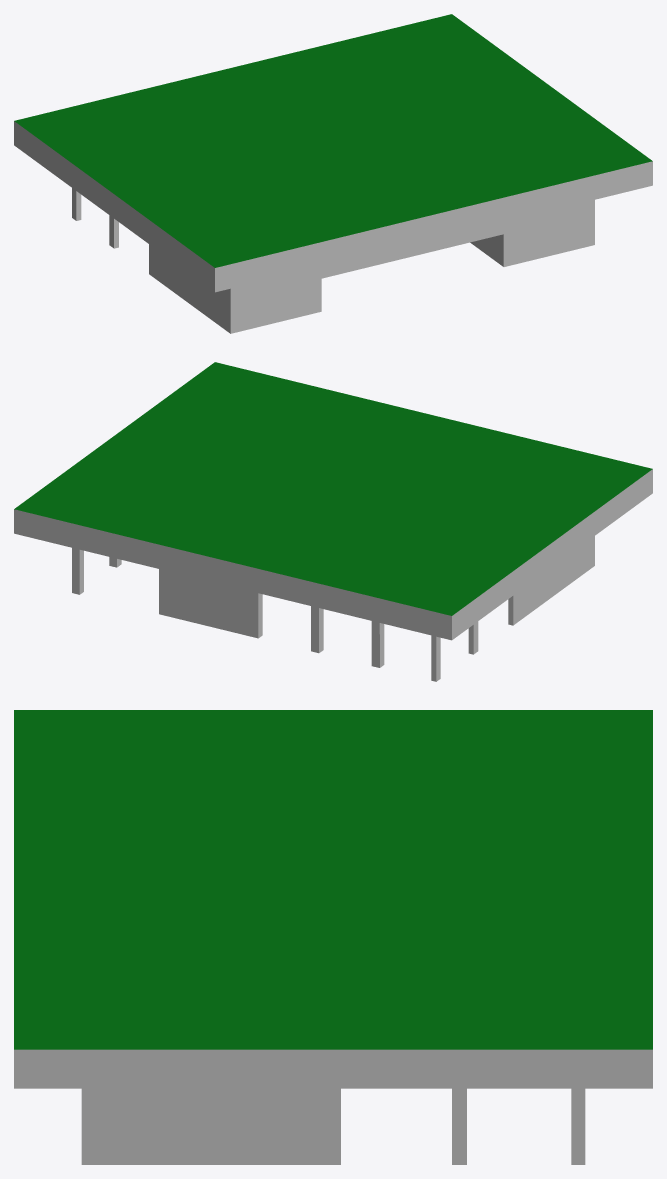
Rendered from Br Bloemen Hall.fbx.
The picture shows the model from 3 angles, top to bottom: view 1: azimuth 30°, elevation 25°; view 2: azimuth 150°, elevation 25°; view 3: azimuth 270°, elevation 25°; orthographic projection. The views are drawn at different scales.
Parts seen in each view (by area): view 1: Br Bloemen Hall; view 2: Br Bloemen Hall; view 3: Br Bloemen Hall.
Part boxes in pixels (left/top/right/bottom): Br Bloemen Hall: left=14, top=14, right=652, bottom=333; Br Bloemen Hall: left=14, top=362, right=652, bottom=681; Br Bloemen Hall: left=14, top=710, right=652, bottom=1164.
Size of the model in its own units: 85.87 by 16.94 by 68.27.
